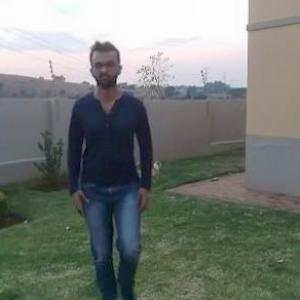follow: (76, 59, 150, 299)
